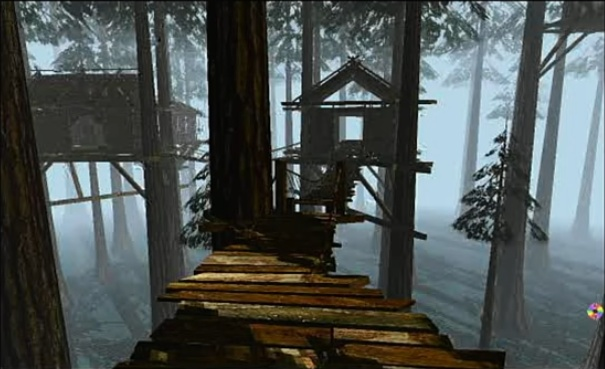Waiting: (584, 299, 604, 321)
